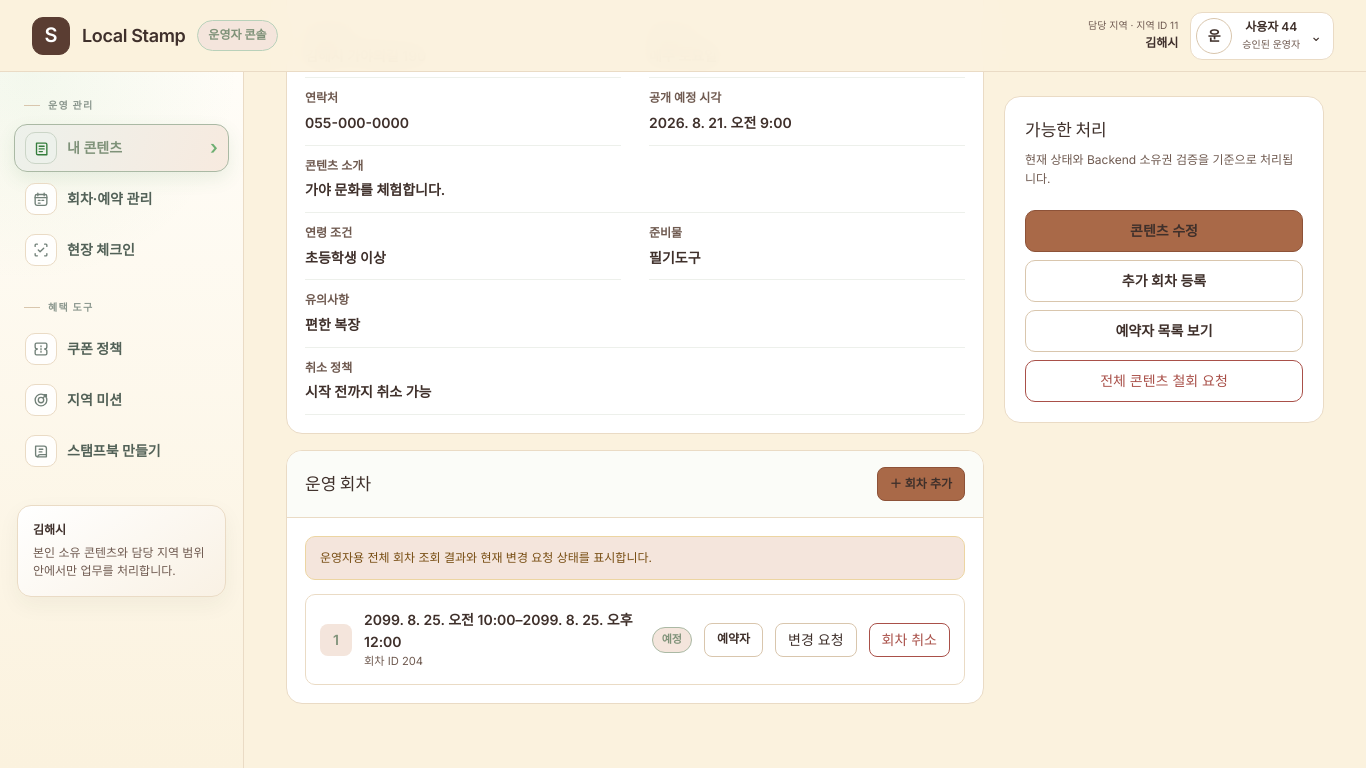
Test: 운영자 회차 생성·변경·취소 흐름 › 취소 성공 후 회차를 제거하지 않고 CANCELLED 상태로 표시한다
This screenshot has width=1366, height=768.
(page scrolled)
Step 1. Click the button "회차 취소" → coordinates (909, 640), box [868,623,950,657]
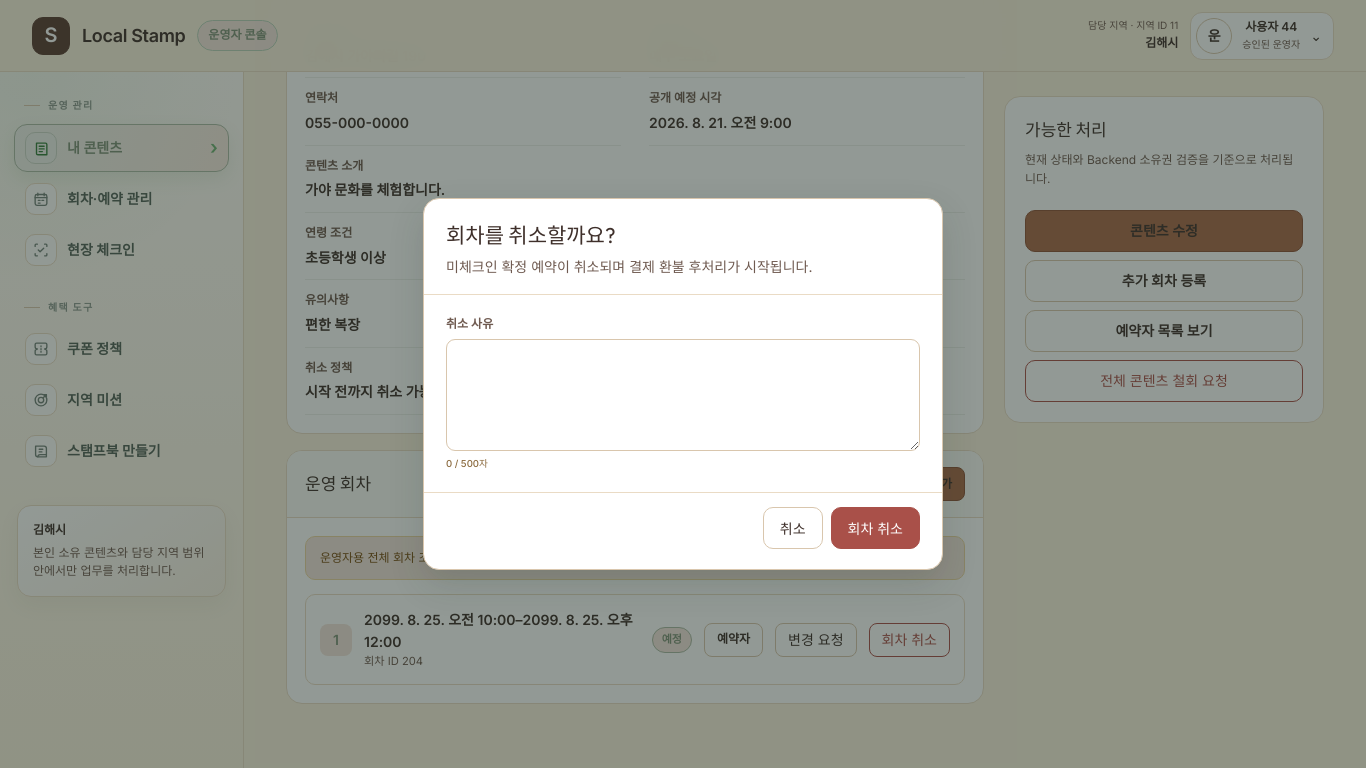
Step 2. Type "행사장 사정" into the text box → coordinates (683, 396), box [446,340,920,452]
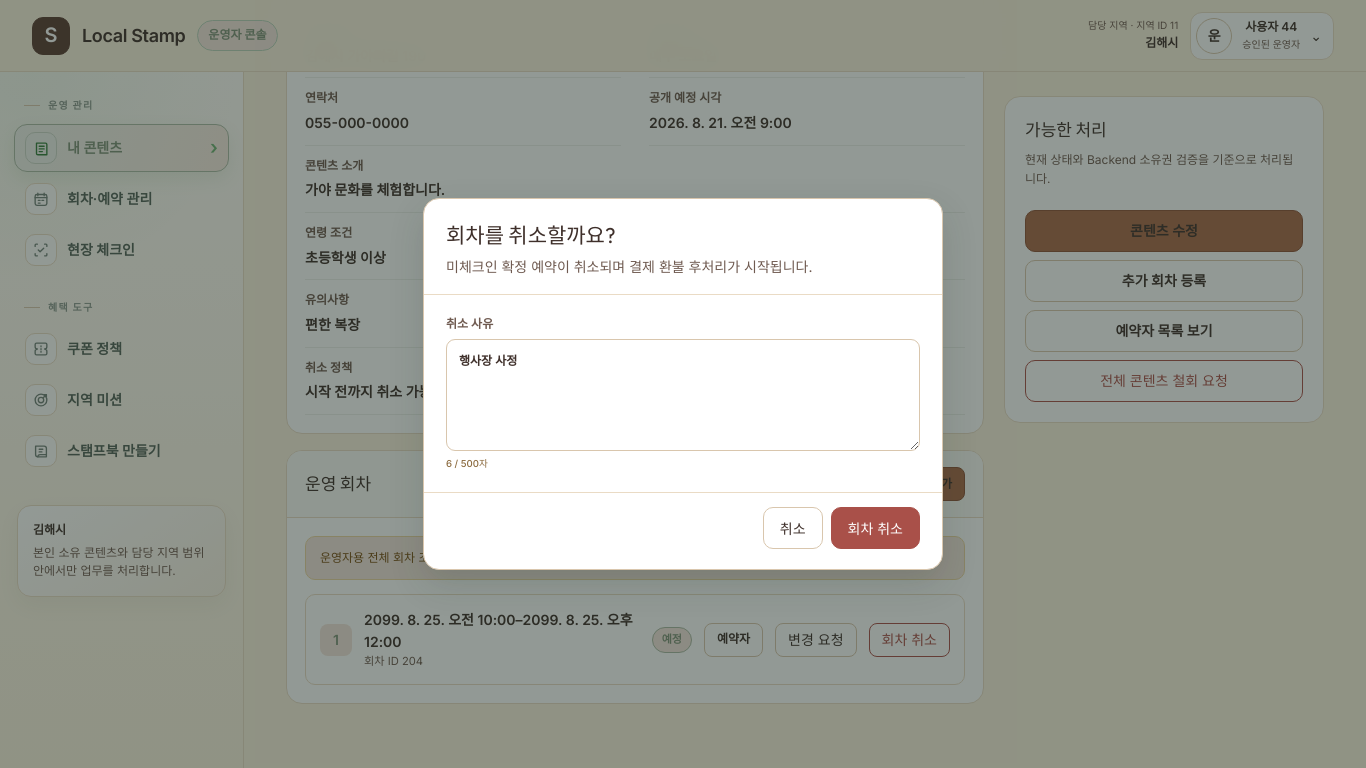
Step 3. Click the button "회차 취소" → coordinates (875, 528), box [830,507,920,549]
(page scrolled)
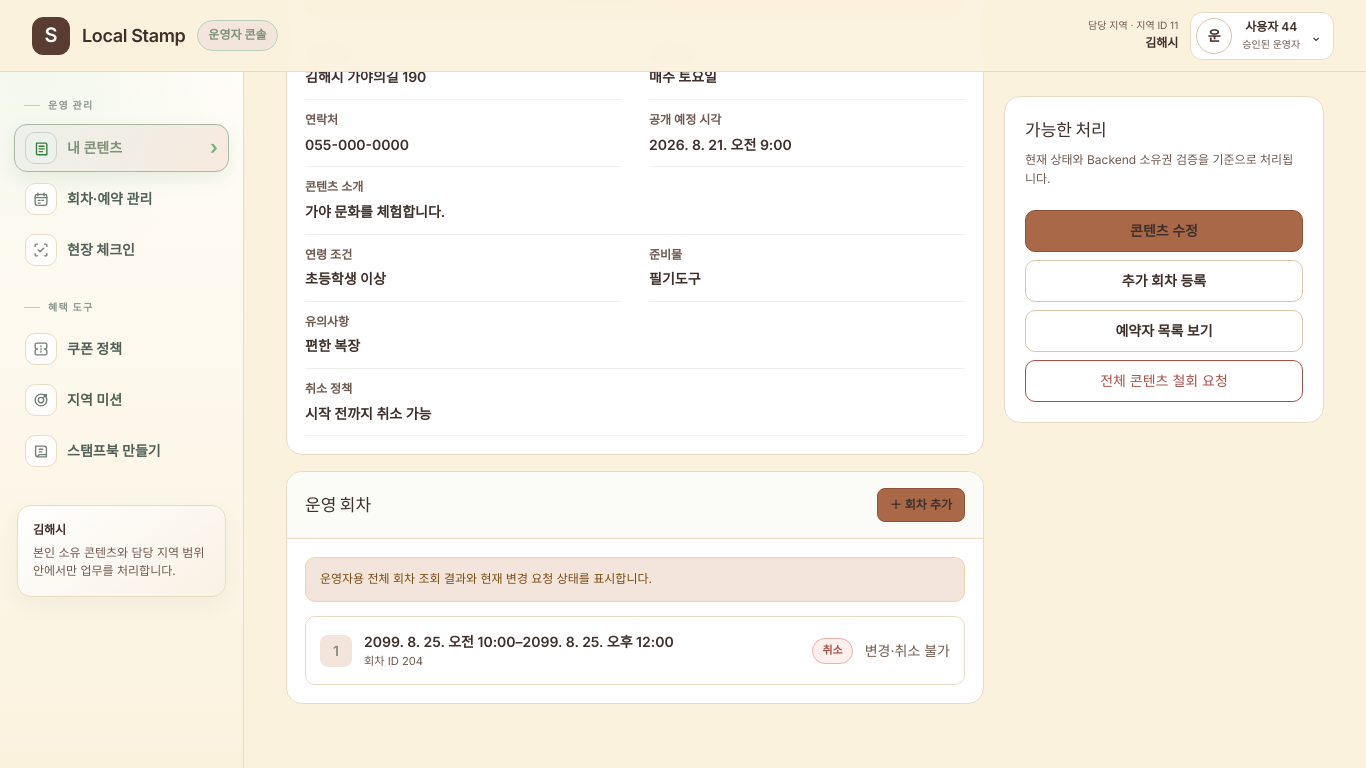
Expected: the text "회차 ID 204" is shown, [364,654,423,668]
Now the text "취소" is shown, box [812,638,853,664]
Now the text "변경·취소 불가" is shown, box [865,640,950,661]
